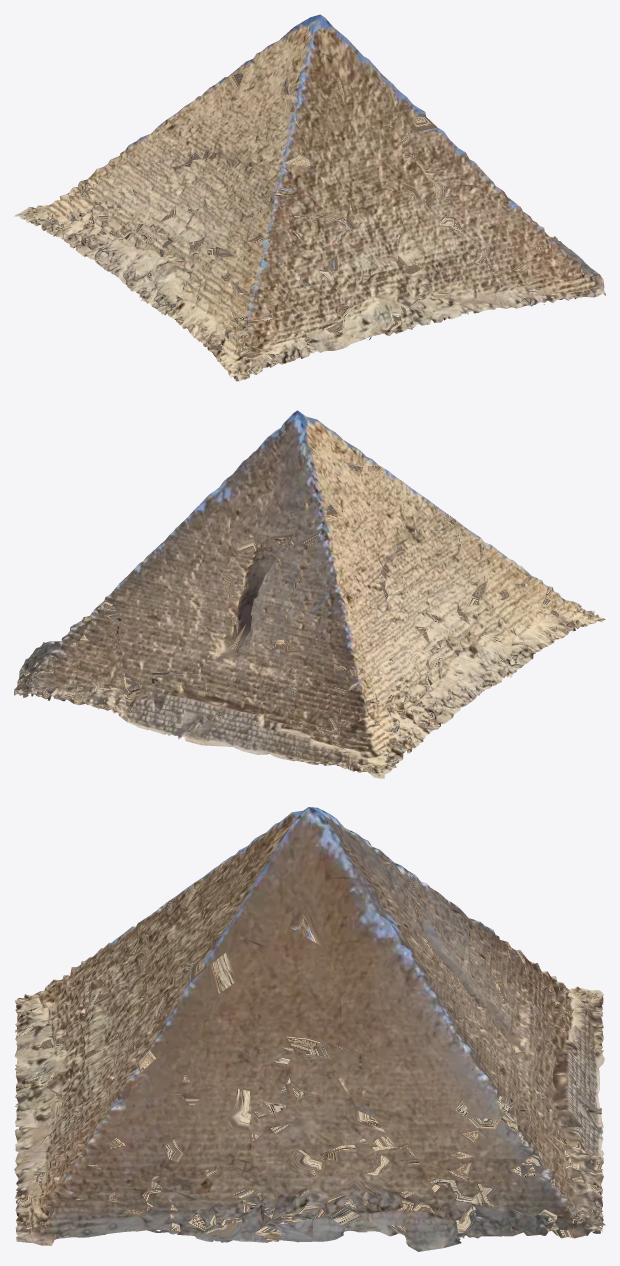
File: giza-menkaure-ruin-lite.glb
The picture shows the model from 3 angles, top to bottom: view 1: azimuth 30°, elevation 25°; view 2: azimuth 150°, elevation 25°; view 3: azimuth 270°, elevation 25°; orthographic projection. The views are drawn at different scales.
Visible parts, largest first — view 1: Object_2; view 2: Object_2; view 3: Object_2.
Boxes of the visible parts, x1=… form: Object_2: x1=14, y1=14, x2=605, y2=381; Object_2: x1=14, y1=410, x2=605, y2=778; Object_2: x1=14, y1=807, x2=605, y2=1251.
Bounding box in the file's own units: 104 × 62.9 × 104.
1 material, 1 textured.
